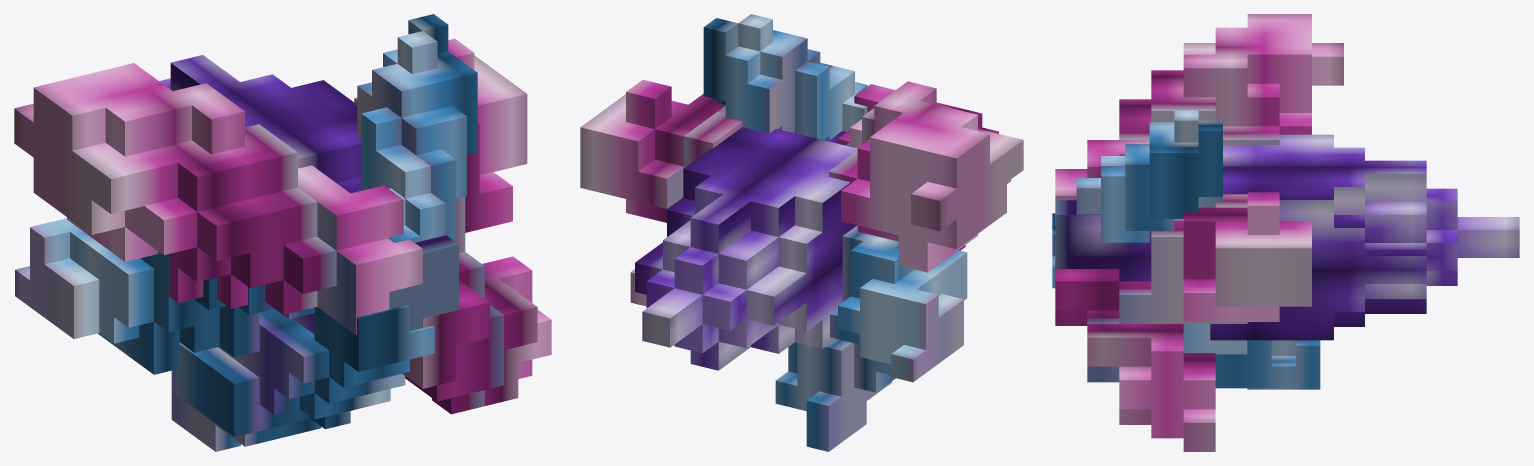
Rendered from Crystal.fbx.
3 views of the same model, side by side, from view 1: azimuth 30°, elevation 25°; view 2: azimuth 150°, elevation 25°; view 3: azimuth 270°, elevation 25° (orthographic). The views are drawn at different scales.
Parts seen in each view (by area): view 1: Cube.048; view 2: Cube.048; view 3: Cube.048.
Boxes of the visible parts, bbox=[...] form: Cube.048: bbox=[14, 14, 551, 451]; Cube.048: bbox=[580, 14, 1023, 451]; Cube.048: bbox=[1052, 14, 1519, 451].
Size of the model in its own units: 104 by 91.13 by 117.
1 material, 1 textured.
